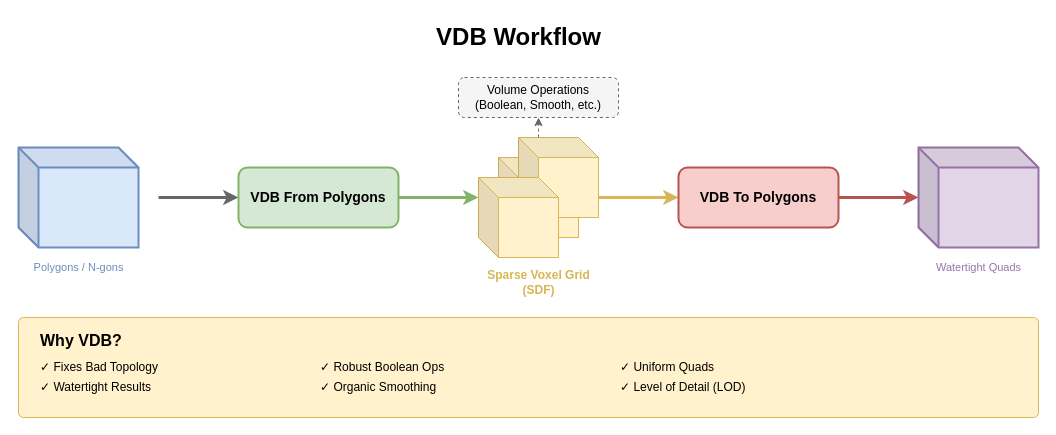
This 1056x435 diagram has some shape labels left out. The centre of each missing label's shape, as x and y in pixels:
"Mesh Geometry" belongs at pixel 78 197.
"Remeshed Geometry" belongs at pixel 978 197.
